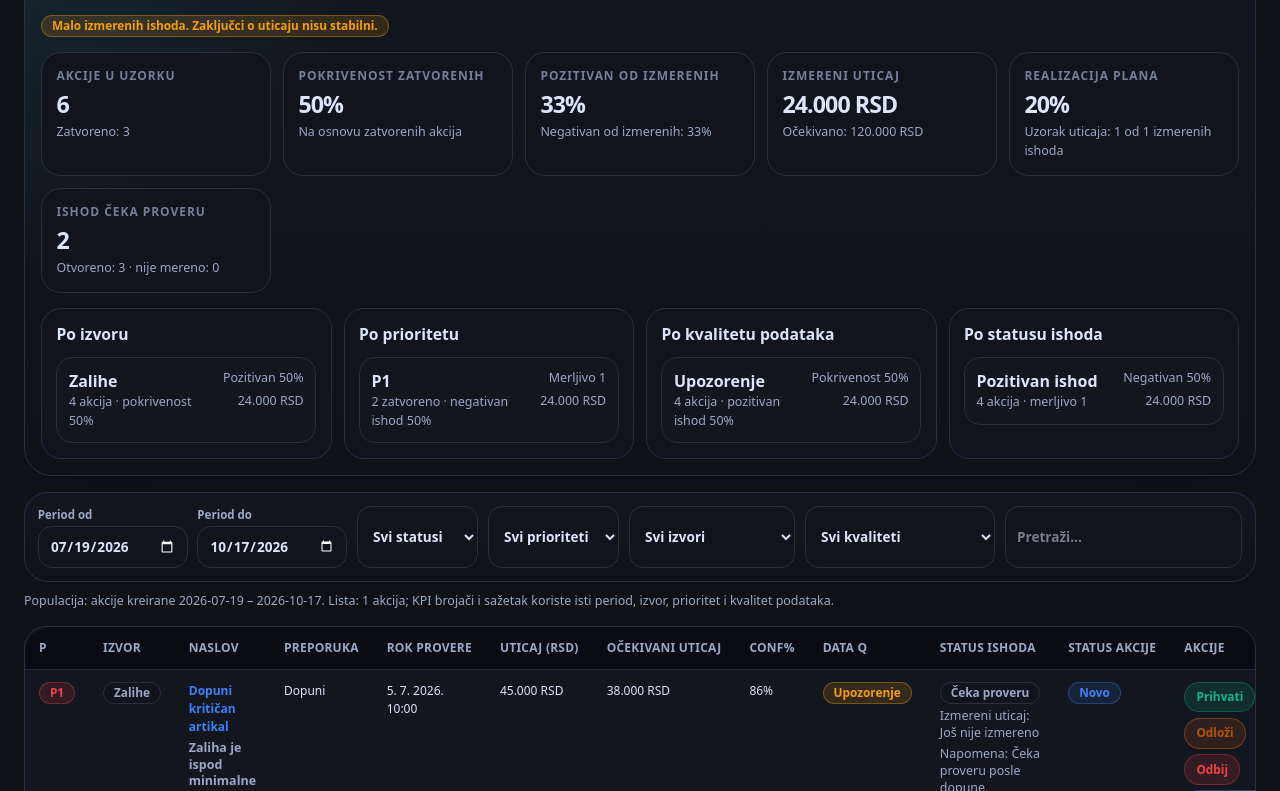
Test: AnalyticsActionsPage › applies outcome-summary bucket filters to the action list
(page scrolled)
Expected: the link "Dopuni kritičan artikal" is shown, [189,682,236,735]
Click the button "Zalihe 4 akcija · pokrivenost 50% Pozitivan 50% 24.000 RSD" at coordinates (186, 400), box [56,357,316,443]
(page scrolled)
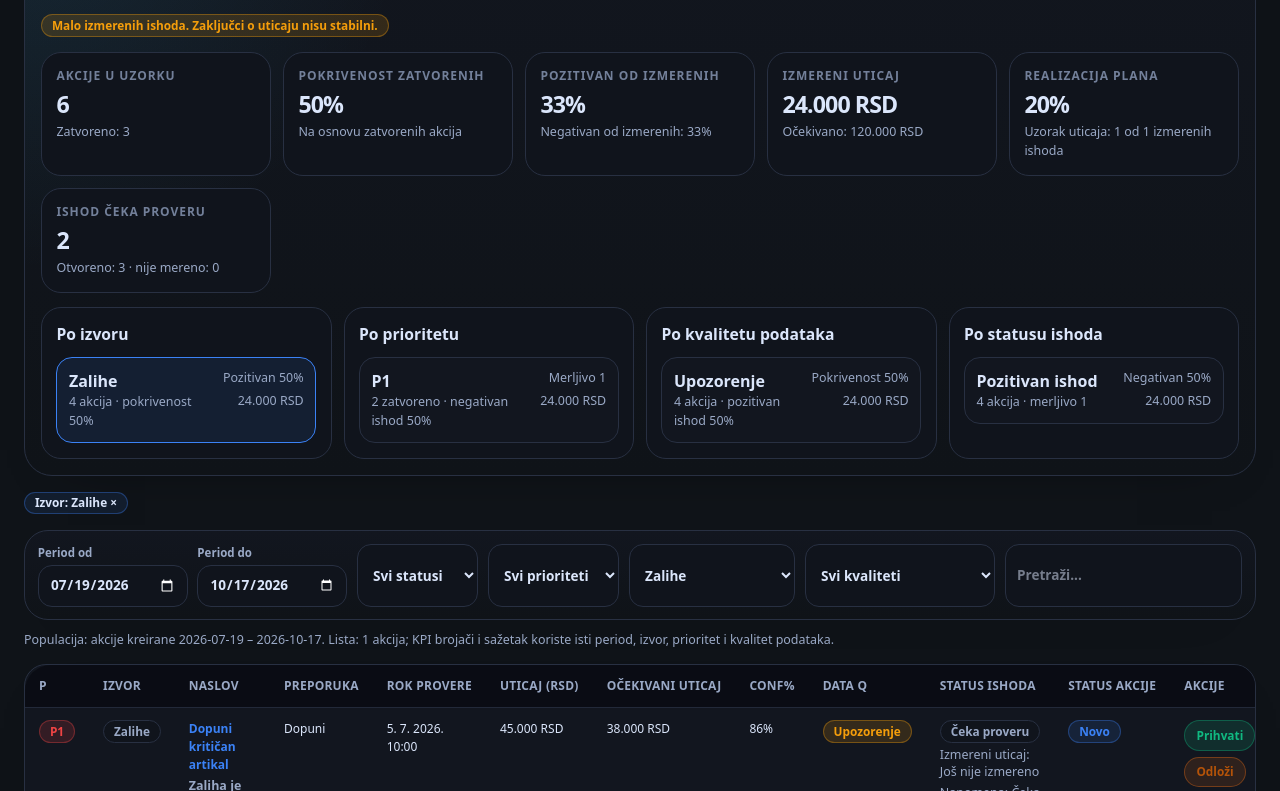
Expected: the button "Izvor: Zalihe ×" is shown, [24,492,128,514]
